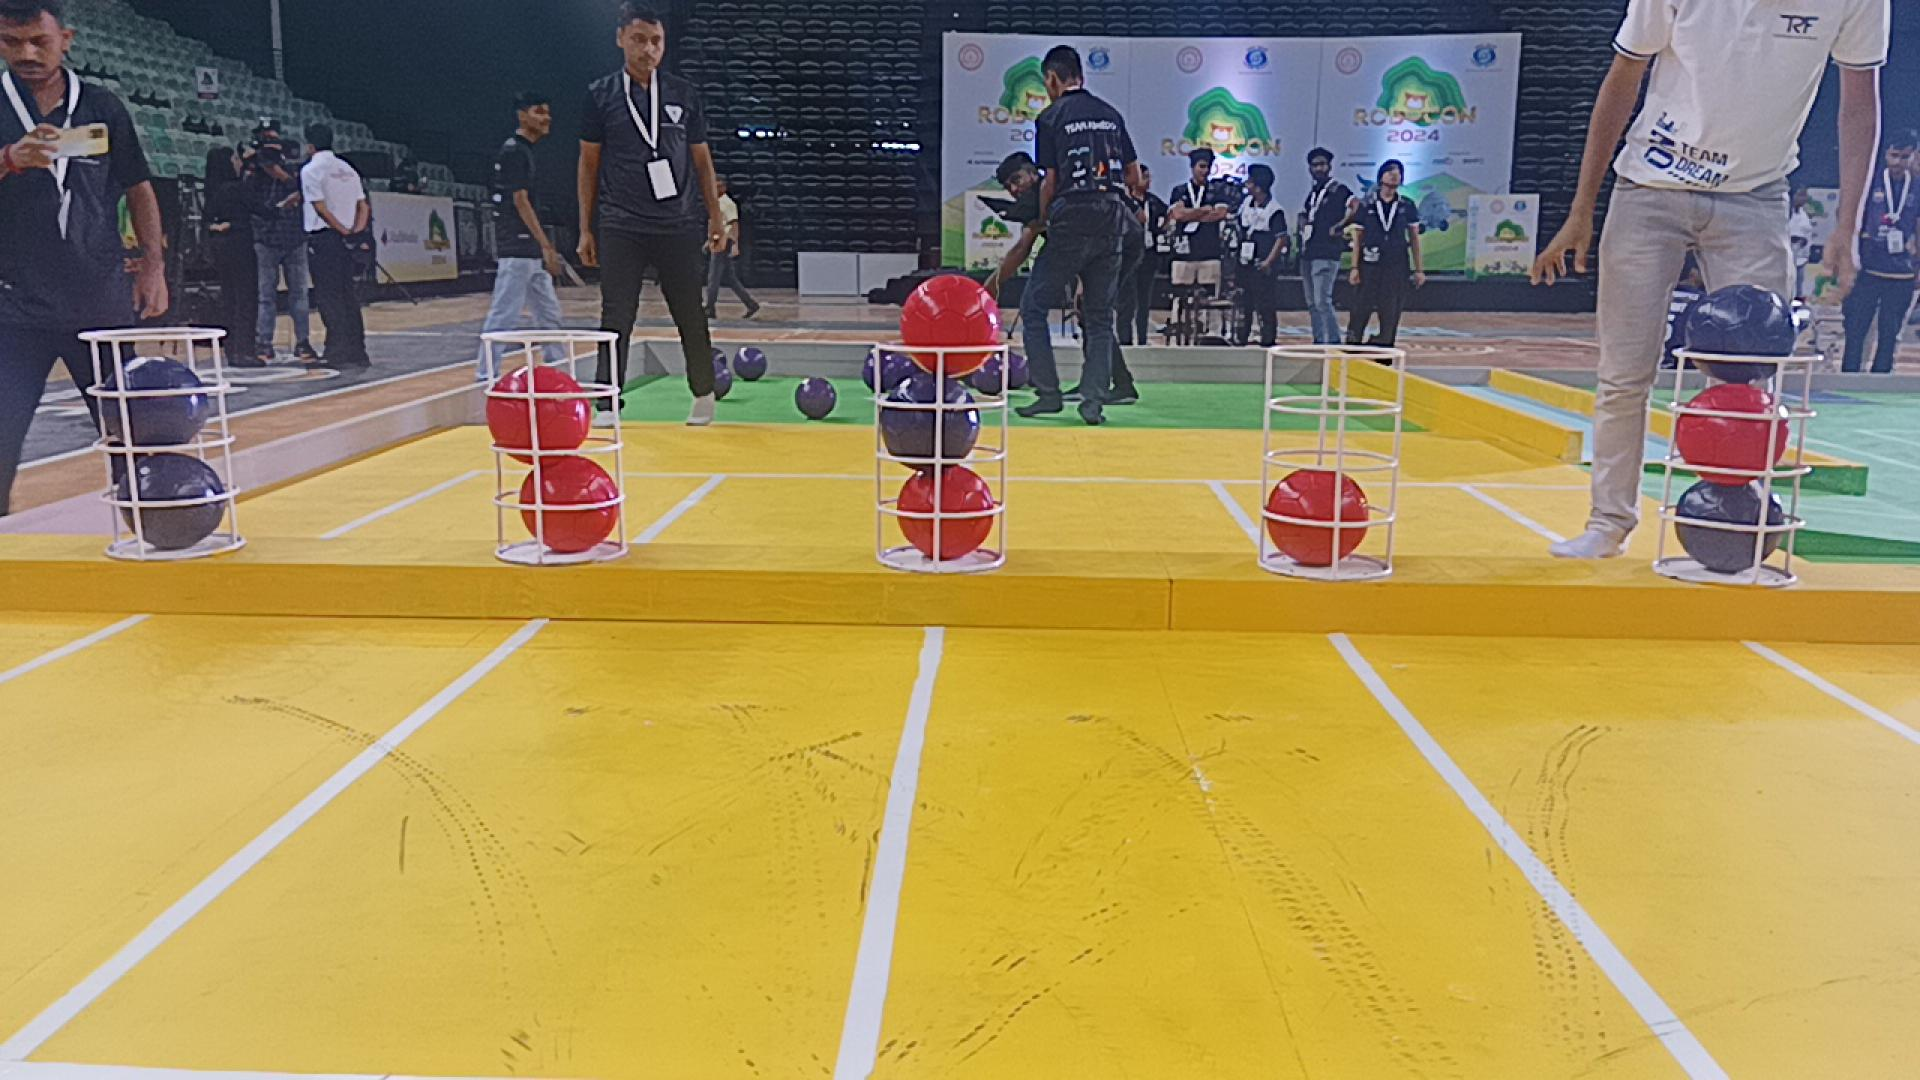dhoka: (1684, 284, 1796, 385), (1676, 479, 1785, 572), (99, 356, 211, 447), (117, 456, 227, 547), (877, 376, 978, 469)
laale: (1676, 382, 1784, 488), (1263, 467, 1367, 567), (902, 274, 1004, 376), (484, 367, 592, 459), (521, 456, 622, 554), (897, 467, 993, 560)
